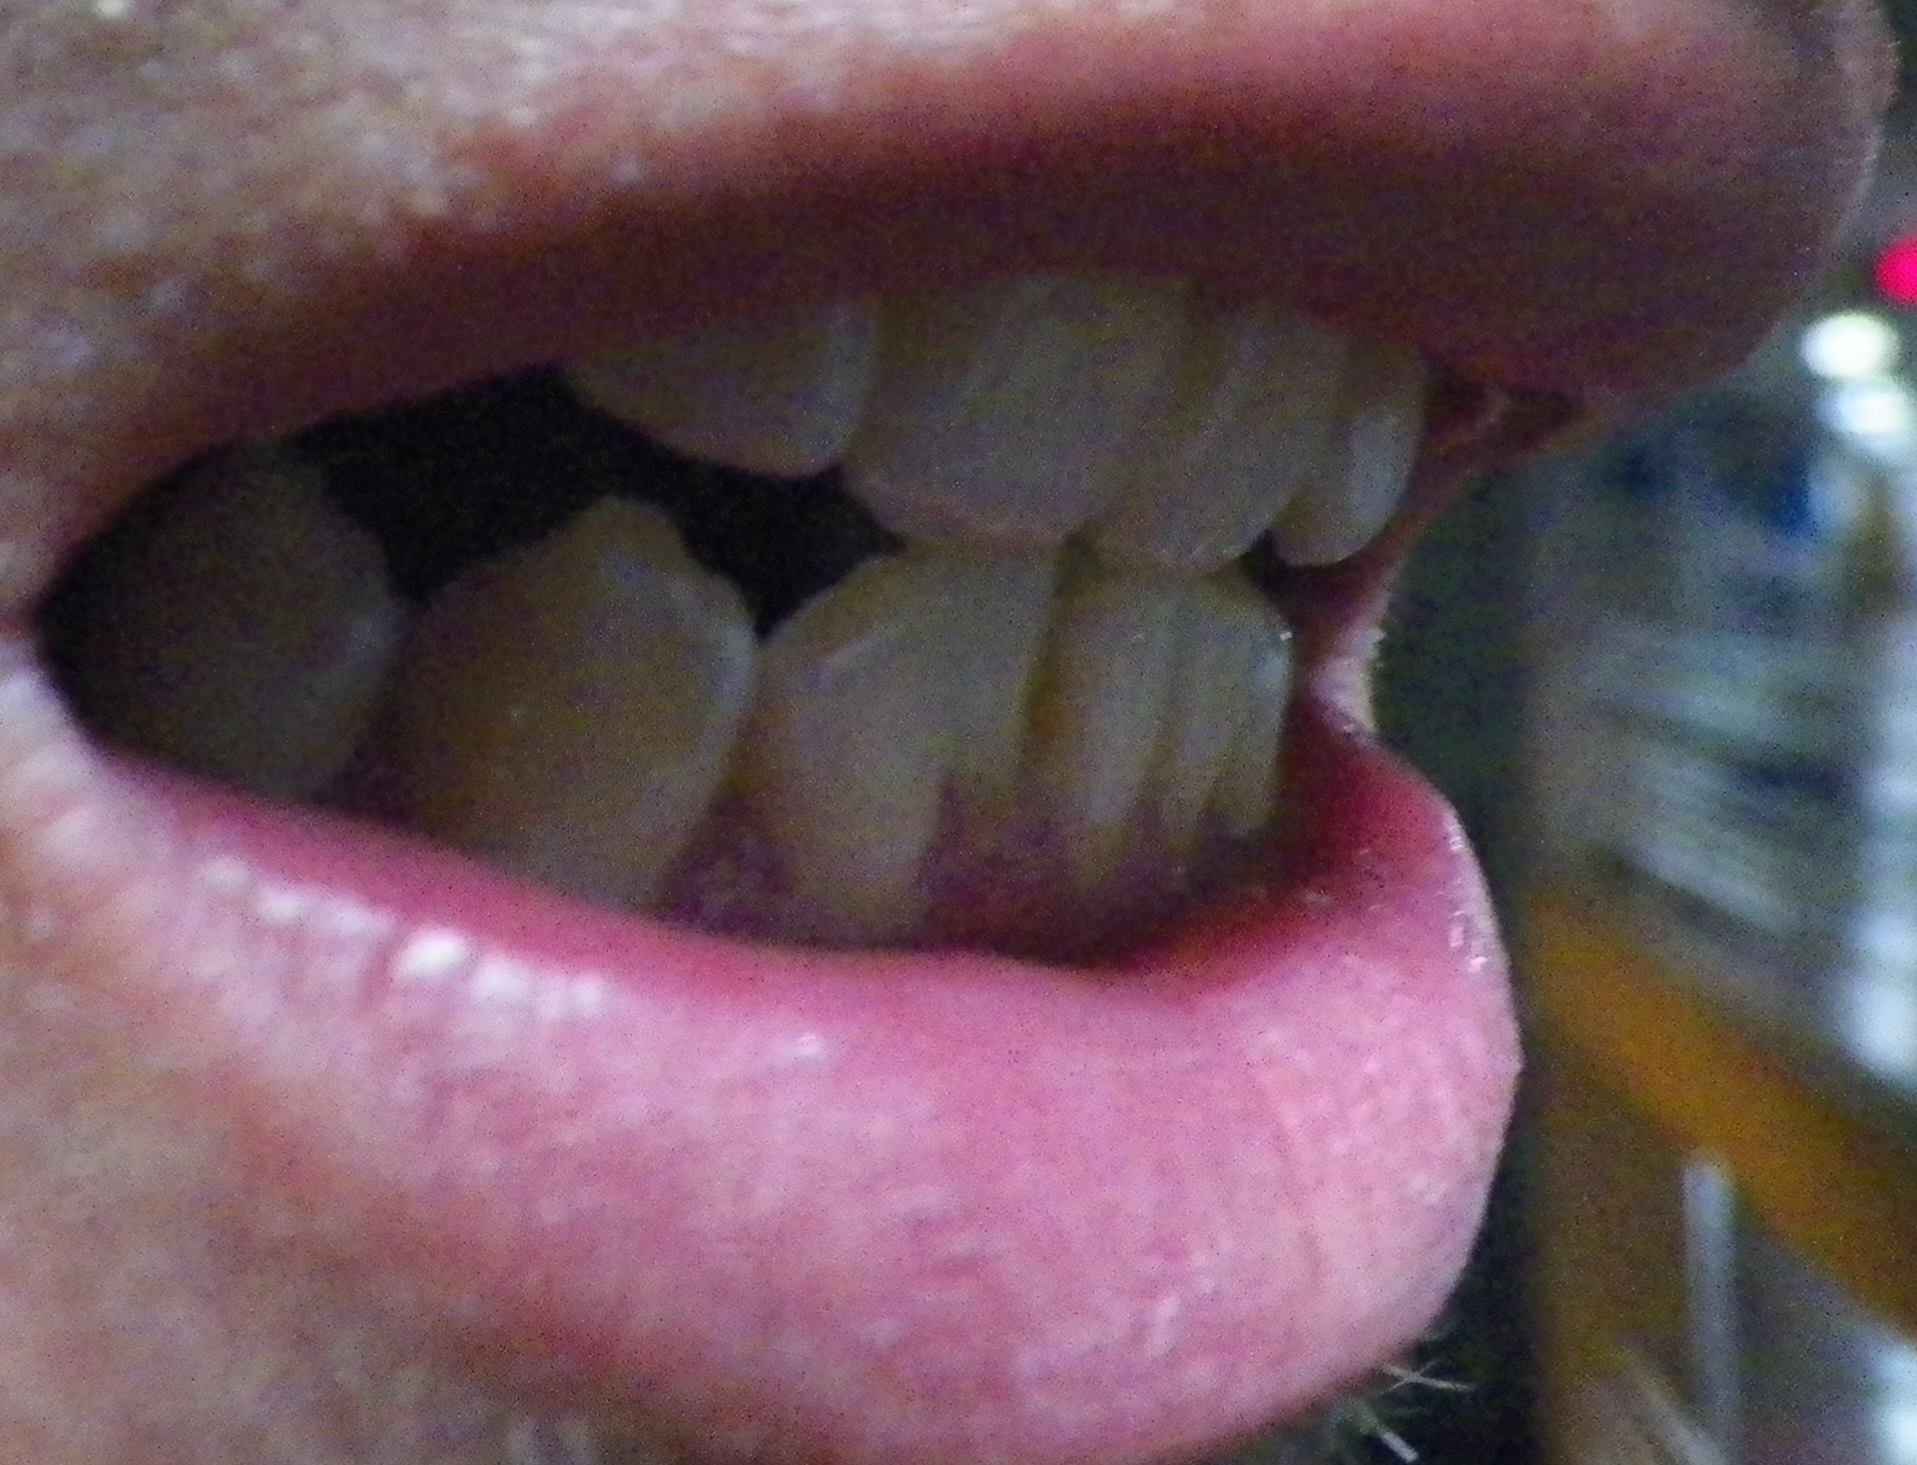boca: (74, 252, 1454, 896)
